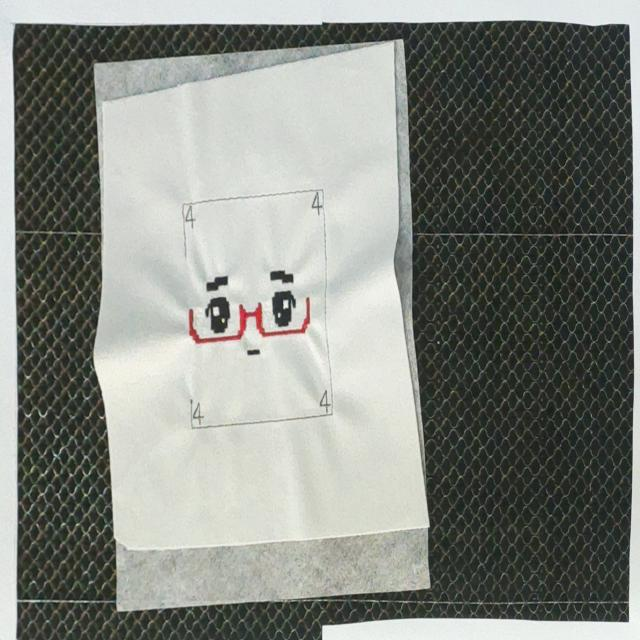4 -: (315, 388, 332, 418), (309, 190, 324, 220), (184, 206, 199, 233), (194, 399, 205, 432)
